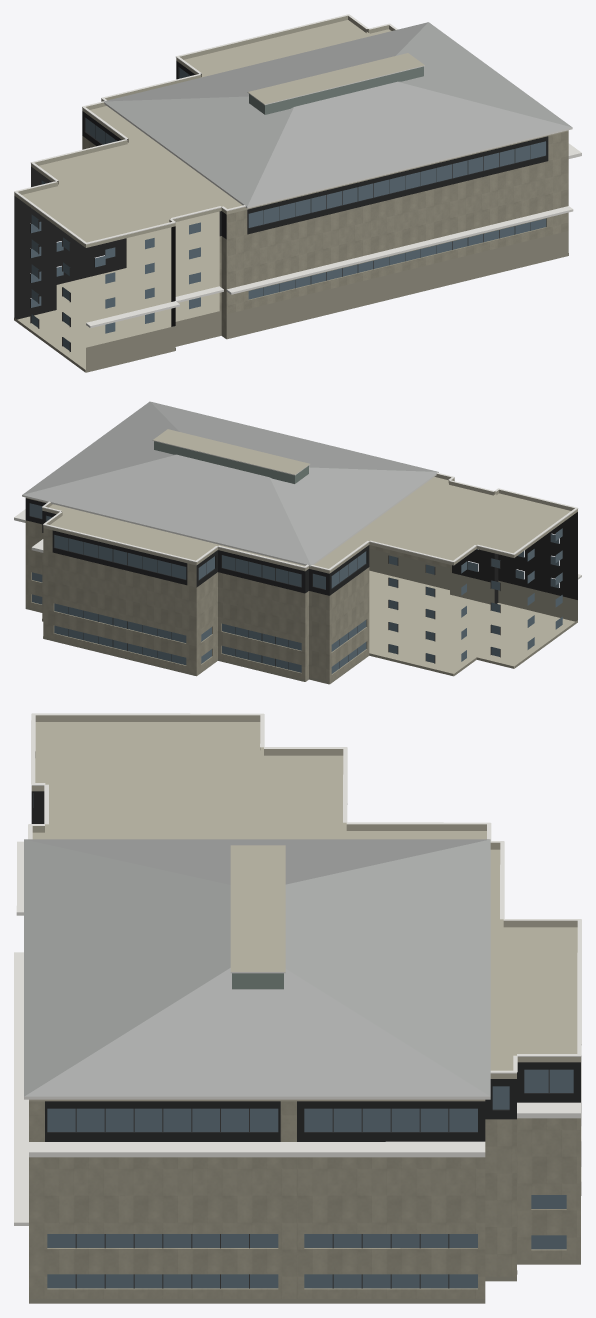
3 views of the same model, one above another, from view 1: azimuth 30°, elevation 25°; view 2: azimuth 150°, elevation 25°; view 3: azimuth 270°, elevation 25° (orthographic). The views are drawn at different scales.
Visible parts, largest first — view 1: gym__roofAccent, gym__roof, gym__wall, gym__base, gym__glass, gym__trim, gym__dark, gym__wall2, gym__parapet, gym__lantern, gym__frame; view 2: gym__roofAccent, gym__roof, gym__wall, gym__glass, gym__base, gym__dark, gym__wall2, gym__trim, gym__parapet, gym__lantern, gym__frame; view 3: gym__roofAccent, gym__wall, gym__roof, gym__glass, gym__trim, gym__wall2, gym__parapet, gym__base, gym__frame, gym__lantern.
Part boxes in pixels (left/top/right/bottom): gym__roofAccent: left=103, top=22, right=572, bottom=206; gym__roof: left=17, top=20, right=424, bottom=372; gym__wall: left=82, top=131, right=568, bottom=338; gym__base: left=14, top=231, right=568, bottom=372; gym__glass: left=31, top=68, right=546, bottom=350; gym__trim: left=14, top=14, right=581, bottom=328; gym__dark: left=14, top=166, right=175, bottom=351; gym__wall2: left=82, top=61, right=548, bottom=239; gym__parapet: left=14, top=15, right=568, bottom=247; gym__lantern: left=249, top=66, right=423, bottom=114; gym__frame: left=95, top=74, right=530, bottom=295; gym__roofAccent: left=22, top=401, right=438, bottom=565; gym__roof: left=49, top=429, right=575, bottom=675; gym__wall: left=25, top=520, right=451, bottom=684; gym__glass: left=29, top=503, right=562, bottom=673; gym__base: left=25, top=548, right=577, bottom=684; gym__dark: left=388, top=512, right=577, bottom=663; gym__wall2: left=25, top=498, right=369, bottom=595; gym__trim: left=14, top=440, right=581, bottom=579; gym__parapet: left=26, top=474, right=577, bottom=573; gym__lantern: left=154, top=441, right=308, bottom=483; gym__frame: left=68, top=538, right=357, bottom=669; gym__roofAccent: left=24, top=839, right=490, bottom=1096; gym__wall: left=29, top=1056, right=581, bottom=1298; gym__roof: left=32, top=722, right=577, bottom=1070; gym__glass: left=33, top=793, right=573, bottom=1288; gym__trim: left=14, top=713, right=581, bottom=1225; gym__wall2: left=45, top=1062, right=580, bottom=1141; gym__parapet: left=29, top=715, right=580, bottom=1101; gym__base: left=29, top=1260, right=580, bottom=1303; gym__frame: left=75, top=1069, right=549, bottom=1288; gym__lantern: left=232, top=973, right=283, bottom=989.
Bounding box in the file's own units: 74.91 × 23.8 × 45.9.
Materials: 13 (1 with a texture image).
